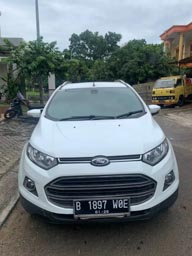plat: (74, 199, 130, 210)
